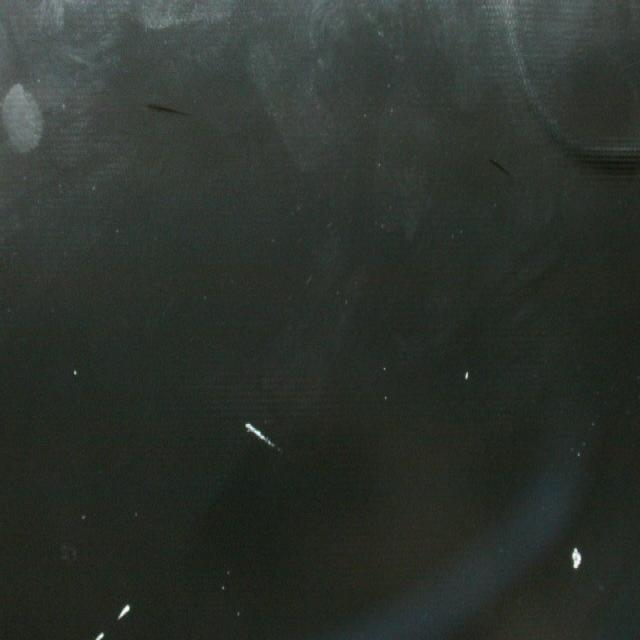scratch: (236, 415, 288, 462), (481, 140, 524, 195), (88, 593, 132, 640), (142, 94, 196, 128)
very small scratch: (562, 533, 590, 580)
